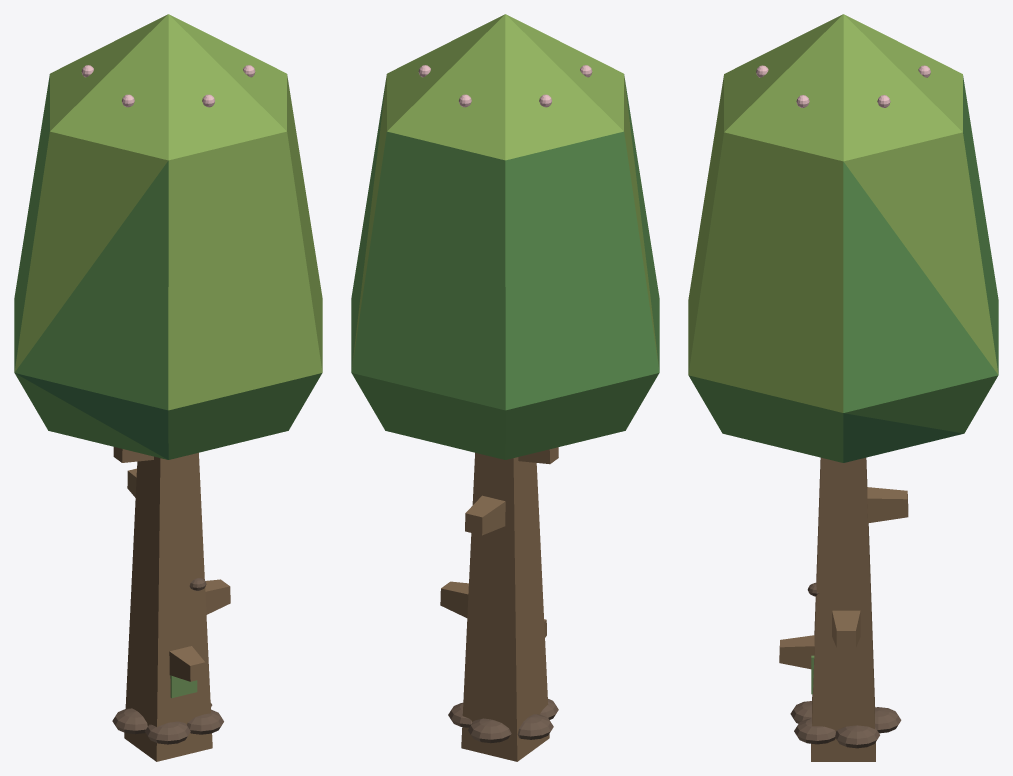
File: tree_default.glb
The picture shows the model from 3 angles, left to right: view 1: azimuth 30°, elevation 25°; view 2: azimuth 150°, elevation 25°; view 3: azimuth 270°, elevation 25°; orthographic projection.
Visible parts, largest first — view 1: tree_default; view 2: tree_default; view 3: tree_default.
Part boxes in pixels (bbox=[...]): tree_default: bbox=[14, 14, 322, 761]; tree_default: bbox=[351, 14, 659, 761]; tree_default: bbox=[688, 14, 998, 761].
Size of the model in its own units: 0.755 by 1.71 by 0.6538.
